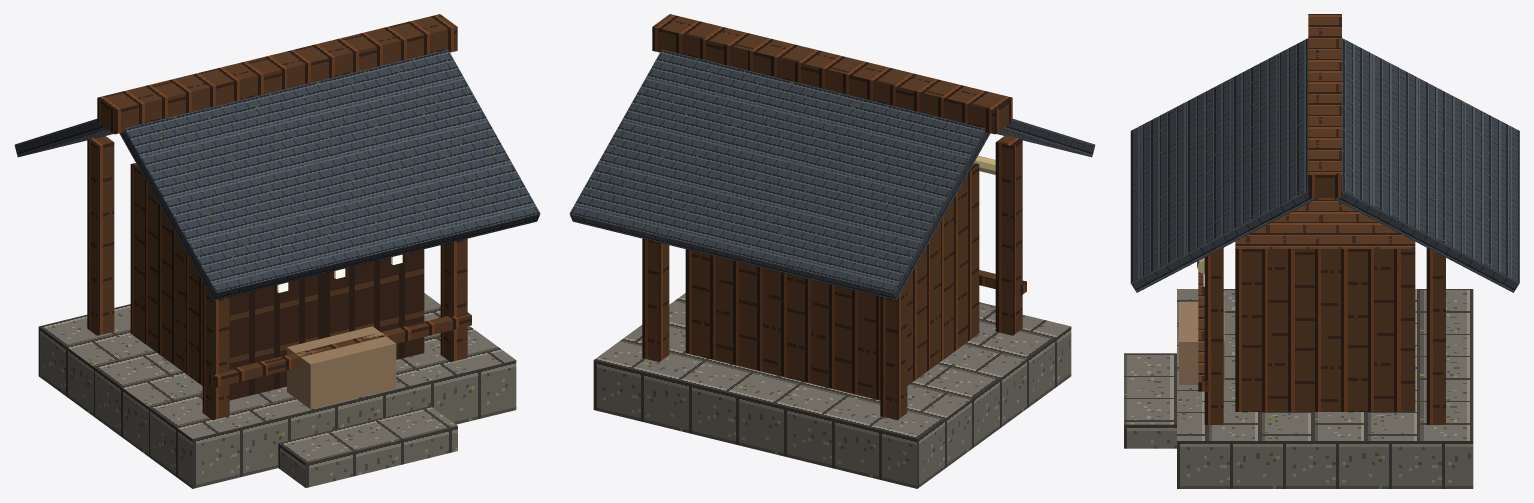
File: Shrine.glb
3 views of the same model, side by side, from view 1: azimuth 30°, elevation 25°; view 2: azimuth 150°, elevation 25°; view 3: azimuth 270°, elevation 25° (orthographic). The views are drawn at different scales.
Visible parts, largest first — view 1: Roof_Front, Plinth, Hall, Ridge, Step, OfferingBox, Post_BL, Post_FL, Rail, Post_FR, Roof_Back; view 2: Roof_Back, Plinth, Hall, Ridge, Post_FL, Post_BL, Post_BR, Roof_Front; view 3: Hall, Plinth, Roof_Front, Roof_Back, Ridge, Step, Post_BR, Post_FR, OfferingBox, Rail.
Part boxes in pixels (left/top/right/bottom): Roof_Front: left=119, top=49, right=540, bottom=300; Plinth: left=38, top=293, right=516, bottom=488; Hall: left=130, top=163, right=424, bottom=400; Ridge: left=97, top=14, right=457, bottom=134; Step: left=278, top=406, right=457, bottom=487; OfferingBox: left=287, top=326, right=396, bottom=409; Post_BL: left=87, top=135, right=114, bottom=335; Post_FL: left=202, top=282, right=229, bottom=420; Rail: left=209, top=312, right=471, bottom=387; Post_FR: left=440, top=238, right=467, bottom=361; Roof_Back: left=14, top=119, right=113, bottom=157; Roof_Back: left=569, top=49, right=990, bottom=300; Plinth: left=593, top=293, right=1071, bottom=488; Hall: left=685, top=163, right=979, bottom=400; Ridge: left=652, top=14, right=1012, bottom=134; Post_FL: left=995, top=135, right=1022, bottom=335; Post_BL: left=880, top=282, right=907, bottom=420; Post_BR: left=642, top=238, right=669, bottom=361; Roof_Front: left=996, top=119, right=1095, bottom=157; Hall: left=1235, top=198, right=1415, bottom=411; Plinth: left=1177, top=289, right=1473, bottom=488; Roof_Front: left=1130, top=38, right=1317, bottom=292; Roof_Back: left=1332, top=38, right=1519, bottom=292; Ridge: left=1308, top=14, right=1341, bottom=197; Step: left=1124, top=353, right=1176, bottom=448; Post_BR: left=1426, top=248, right=1445, bottom=424; Post_FR: left=1204, top=248, right=1223, bottom=424; OfferingBox: left=1179, top=301, right=1224, bottom=384; Rail: left=1198, top=271, right=1208, bottom=391.
Bounding box in the file's own units: 3.6 × 3.32 × 3.74.
Materials: 6 (4 with a texture image).
